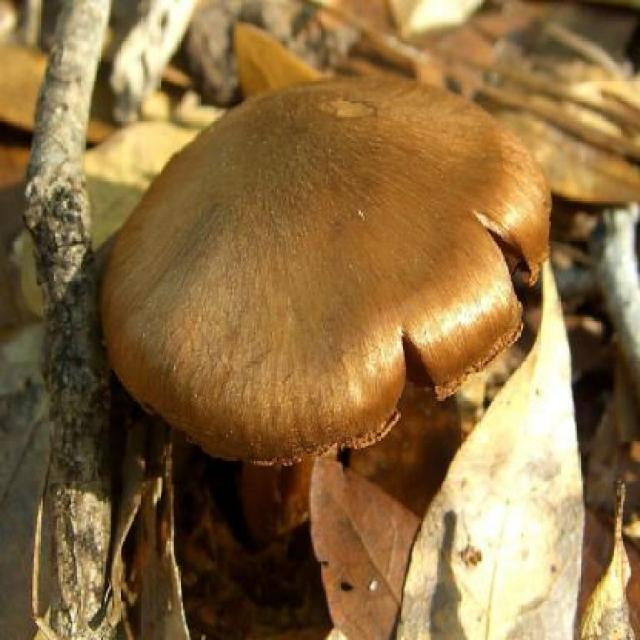Mushroom: (93, 76, 552, 601)
